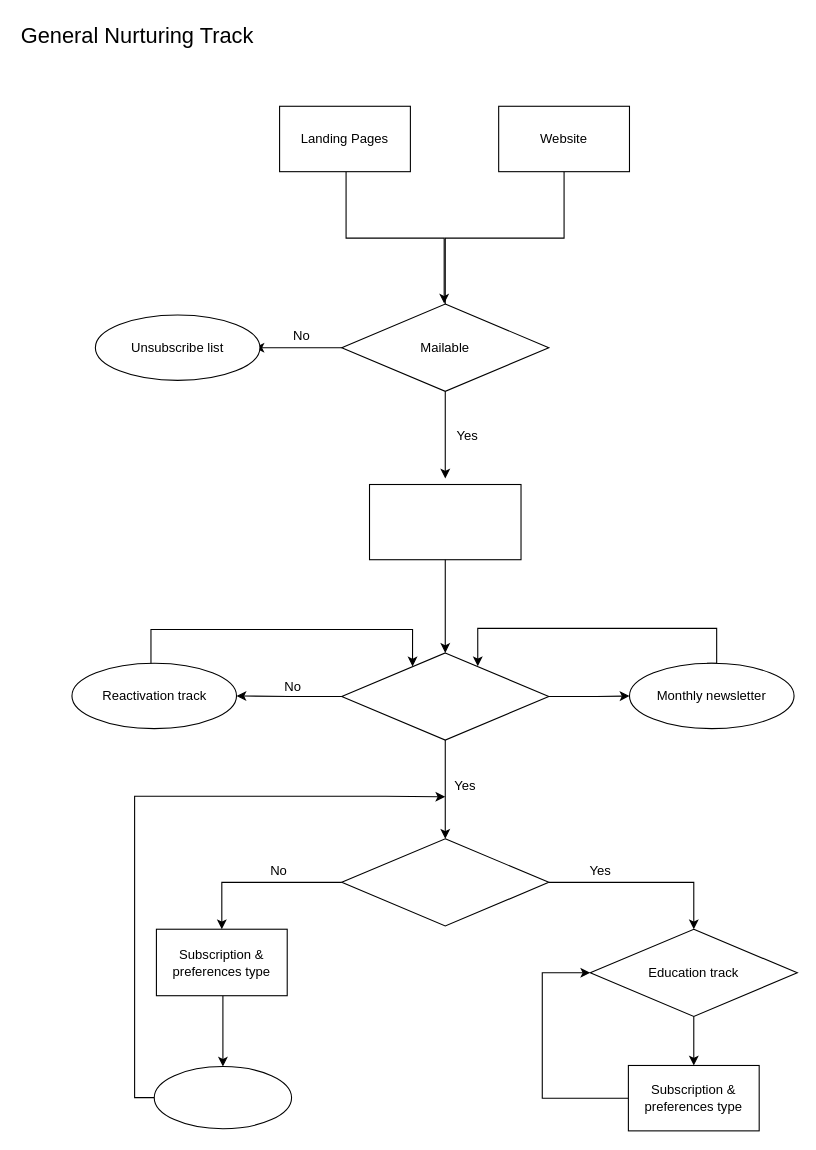
Some shapes in this 816 by 1150 pixel diagram are drawn without their labels. Each missing label, with the centre of its shape:
Active user: the point at 445,696
Download track: the point at 445,882
Preferences oriented promo content: the point at 222,1097
Subscription Center: the point at 444,521
